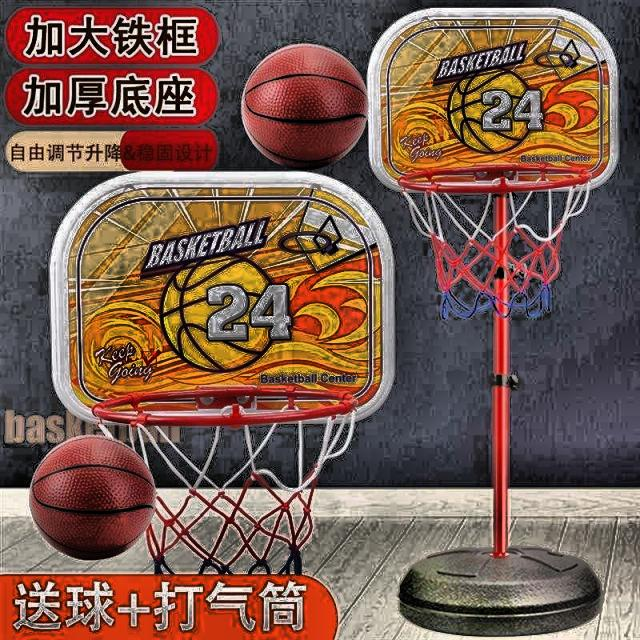board: (28, 435, 154, 563), (242, 44, 366, 169)
rim: (97, 393, 354, 572), (402, 164, 592, 319)
